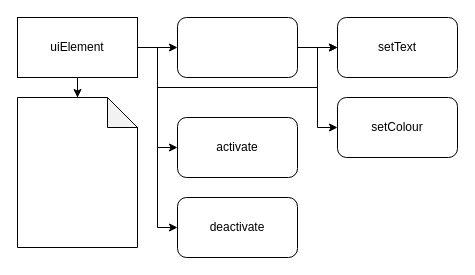
The diagram is 475 pixels wide and 275 high, and some of its shapes have lost their labels. Here are the shapes that lost their labels. From the top down, the box of each, then its label:
(176, 16, 298, 78): init
(16, 96, 138, 248): Variables: font text colour scale xPos yPos active sprite layer
